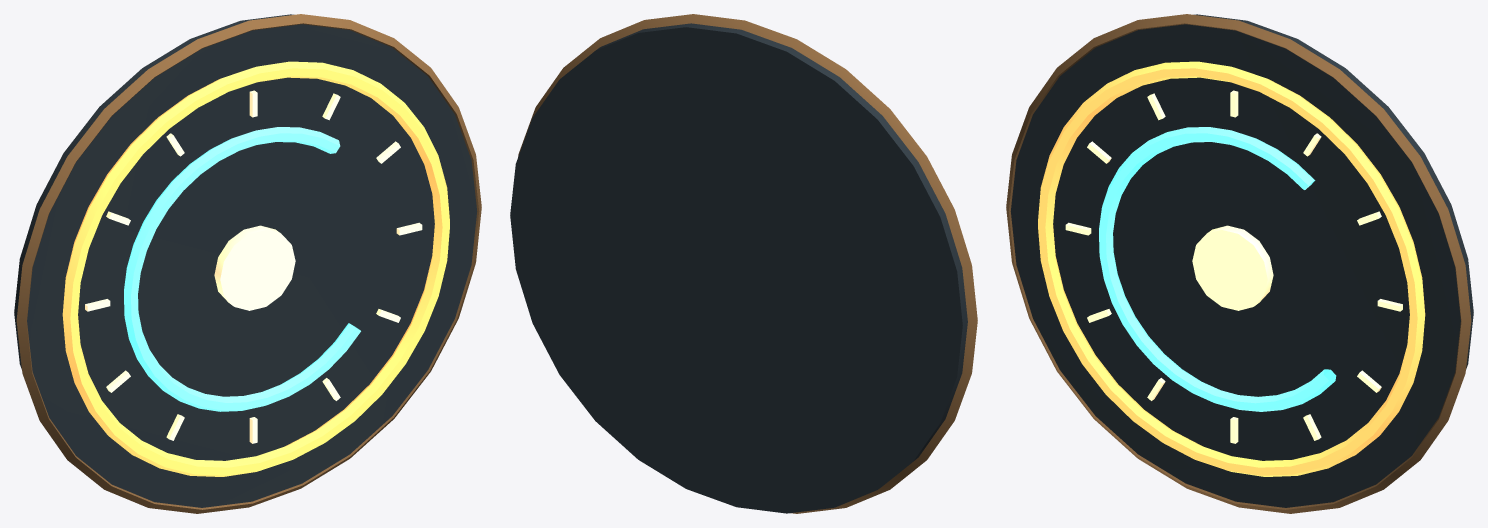
File: neon-ring.lod0.glb
The picture shows the model from 3 angles, left to right: view 1: azimuth 30°, elevation 25°; view 2: azimuth 150°, elevation 25°; view 3: azimuth 330°, elevation 25°; orthographic projection.
Visible parts, largest first — view 1: structure; view 2: structure; view 3: structure.
Boxes of the visible parts, x1,y1,x2,y2 form: structure: [14, 14, 481, 513]; structure: [510, 14, 977, 513]; structure: [1006, 14, 1473, 513].
Bounding box in the file's own units: 1.85 × 1.85 × 0.136.
